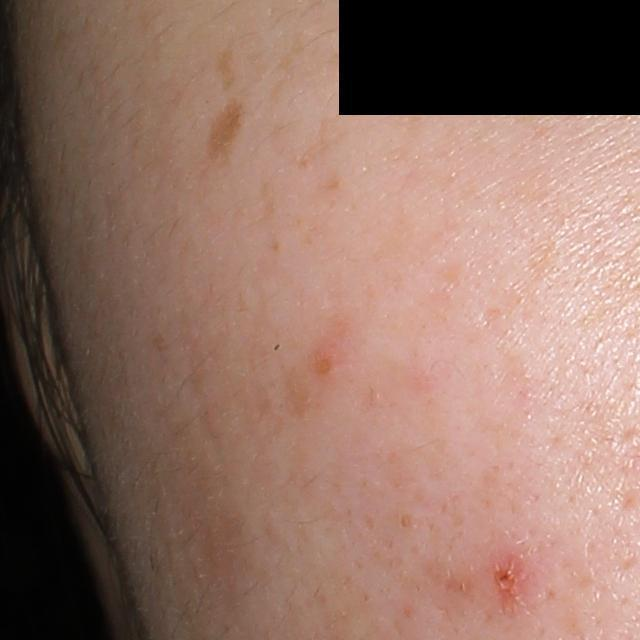comedo: (391, 510, 417, 534)
melasma: (204, 94, 247, 167), (382, 79, 426, 145), (214, 41, 236, 92)
papule: (480, 547, 541, 617)
